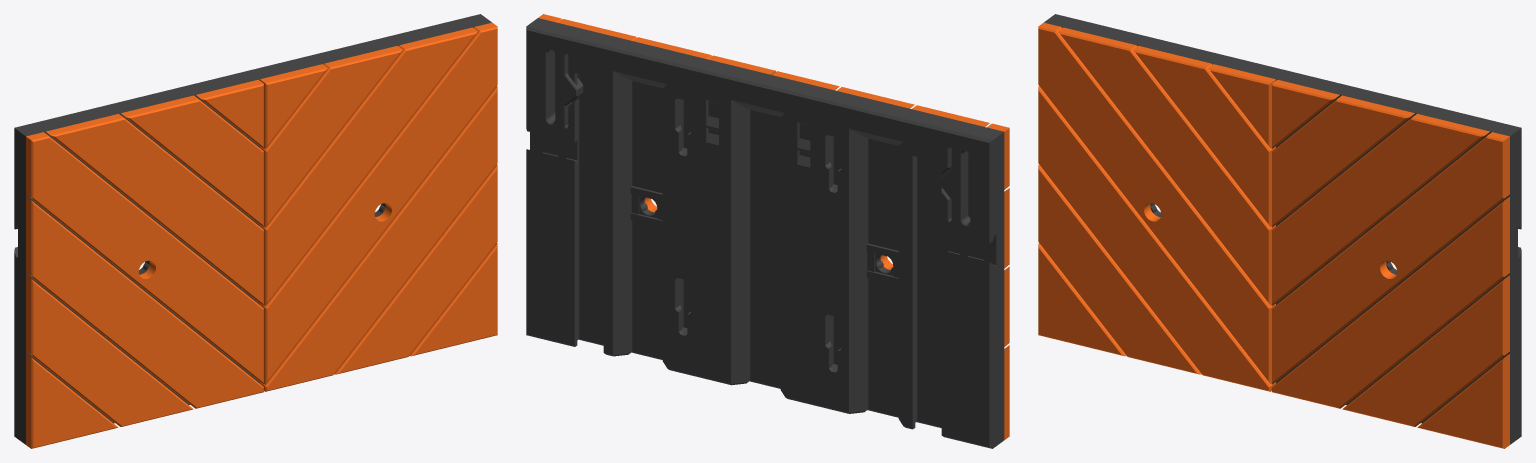
File: Faceplate_Chevron_1W-1H.lib.glb
3 renders of one model, left to right at view 1: azimuth 30°, elevation 25°; view 2: azimuth 150°, elevation 25°; view 3: azimuth 330°, elevation 25°, orthographic.
Parts seen in each view (by area): view 1: Faceplate_Chevron_1W-1H; view 2: Faceplate_Chevron_1W-1H; view 3: Faceplate_Chevron_1W-1H.
Boxes of the visible parts, x1,y1,x2,y2 form: Faceplate_Chevron_1W-1H: [14, 14, 497, 448]; Faceplate_Chevron_1W-1H: [526, 14, 1009, 448]; Faceplate_Chevron_1W-1H: [1038, 14, 1521, 448].
Bounding box in the file's own units: 87 × 55 × 6.2.
